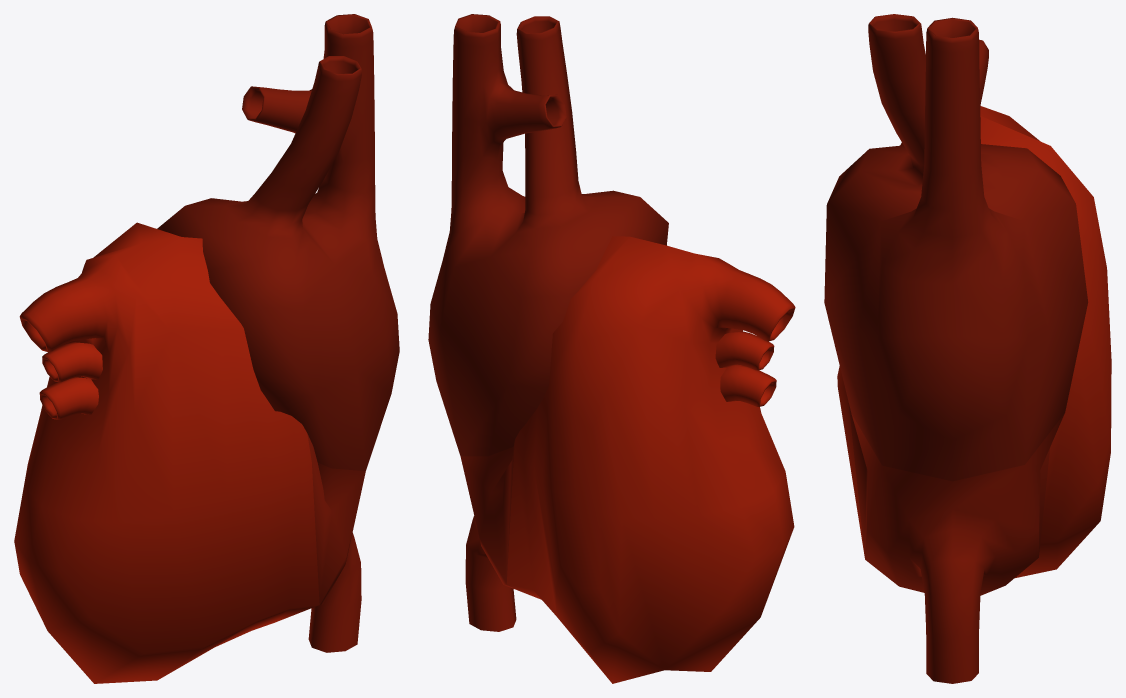
File: HeartBeater.fbx
3 views of the same model, side by side, from view 1: azimuth 30°, elevation 25°; view 2: azimuth 150°, elevation 25°; view 3: azimuth 270°, elevation 25° (orthographic). The views are drawn at different scales.
Visible parts, largest first — view 1: Heart; view 2: Heart; view 3: Heart.
Boxes of the visible parts, left/top/right/bottom form: Heart: left=14, top=14, right=399, bottom=683; Heart: left=428, top=14, right=795, bottom=683; Heart: left=824, top=14, right=1111, bottom=683.
Bounding box in the file's own units: 341 × 556 × 221.
